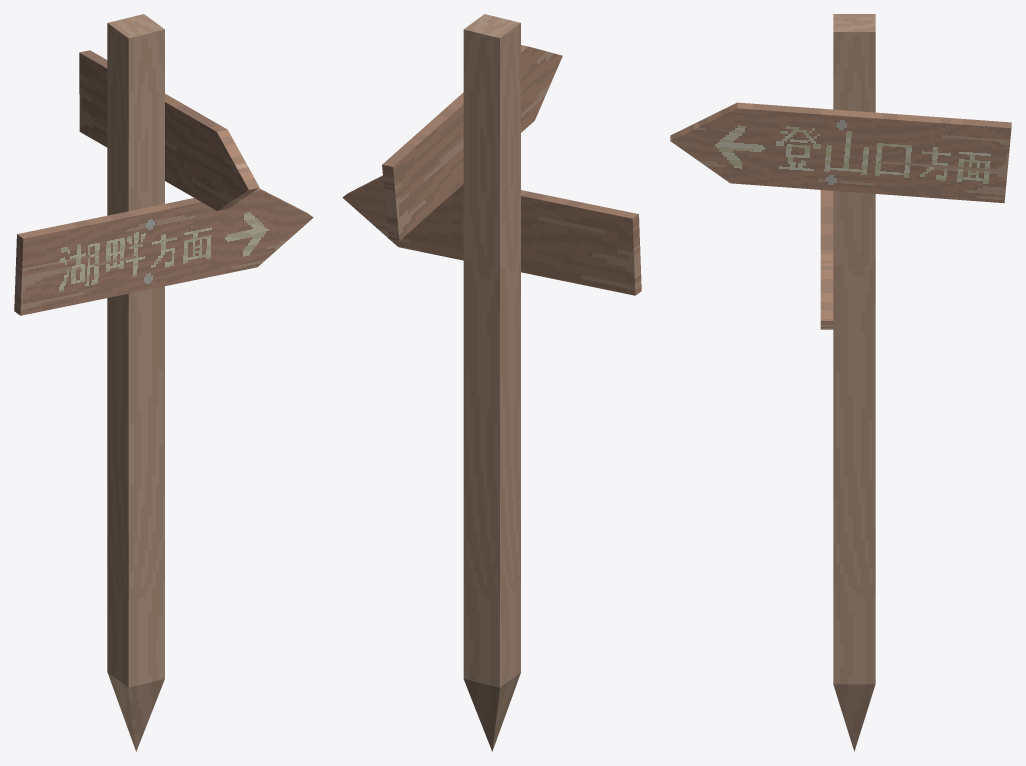
Rendered from 045a_Mountain_Guidepost.glb.
3 renders of one model, left to right at view 1: azimuth 30°, elevation 25°; view 2: azimuth 150°, elevation 25°; view 3: azimuth 270°, elevation 25°, orthographic.
Visible parts, largest first — view 1: part_0; view 2: part_0; view 3: part_0.
Boxes of the visible parts, <box> form: part_0: <box>14,14,313,751</box>; part_0: <box>342,14,641,751</box>; part_0: <box>670,14,1011,751</box>.
Bounding box in the file's own units: 0.8032 × 1.9 × 0.8055.
Materials: 1 (1 with a texture image).
